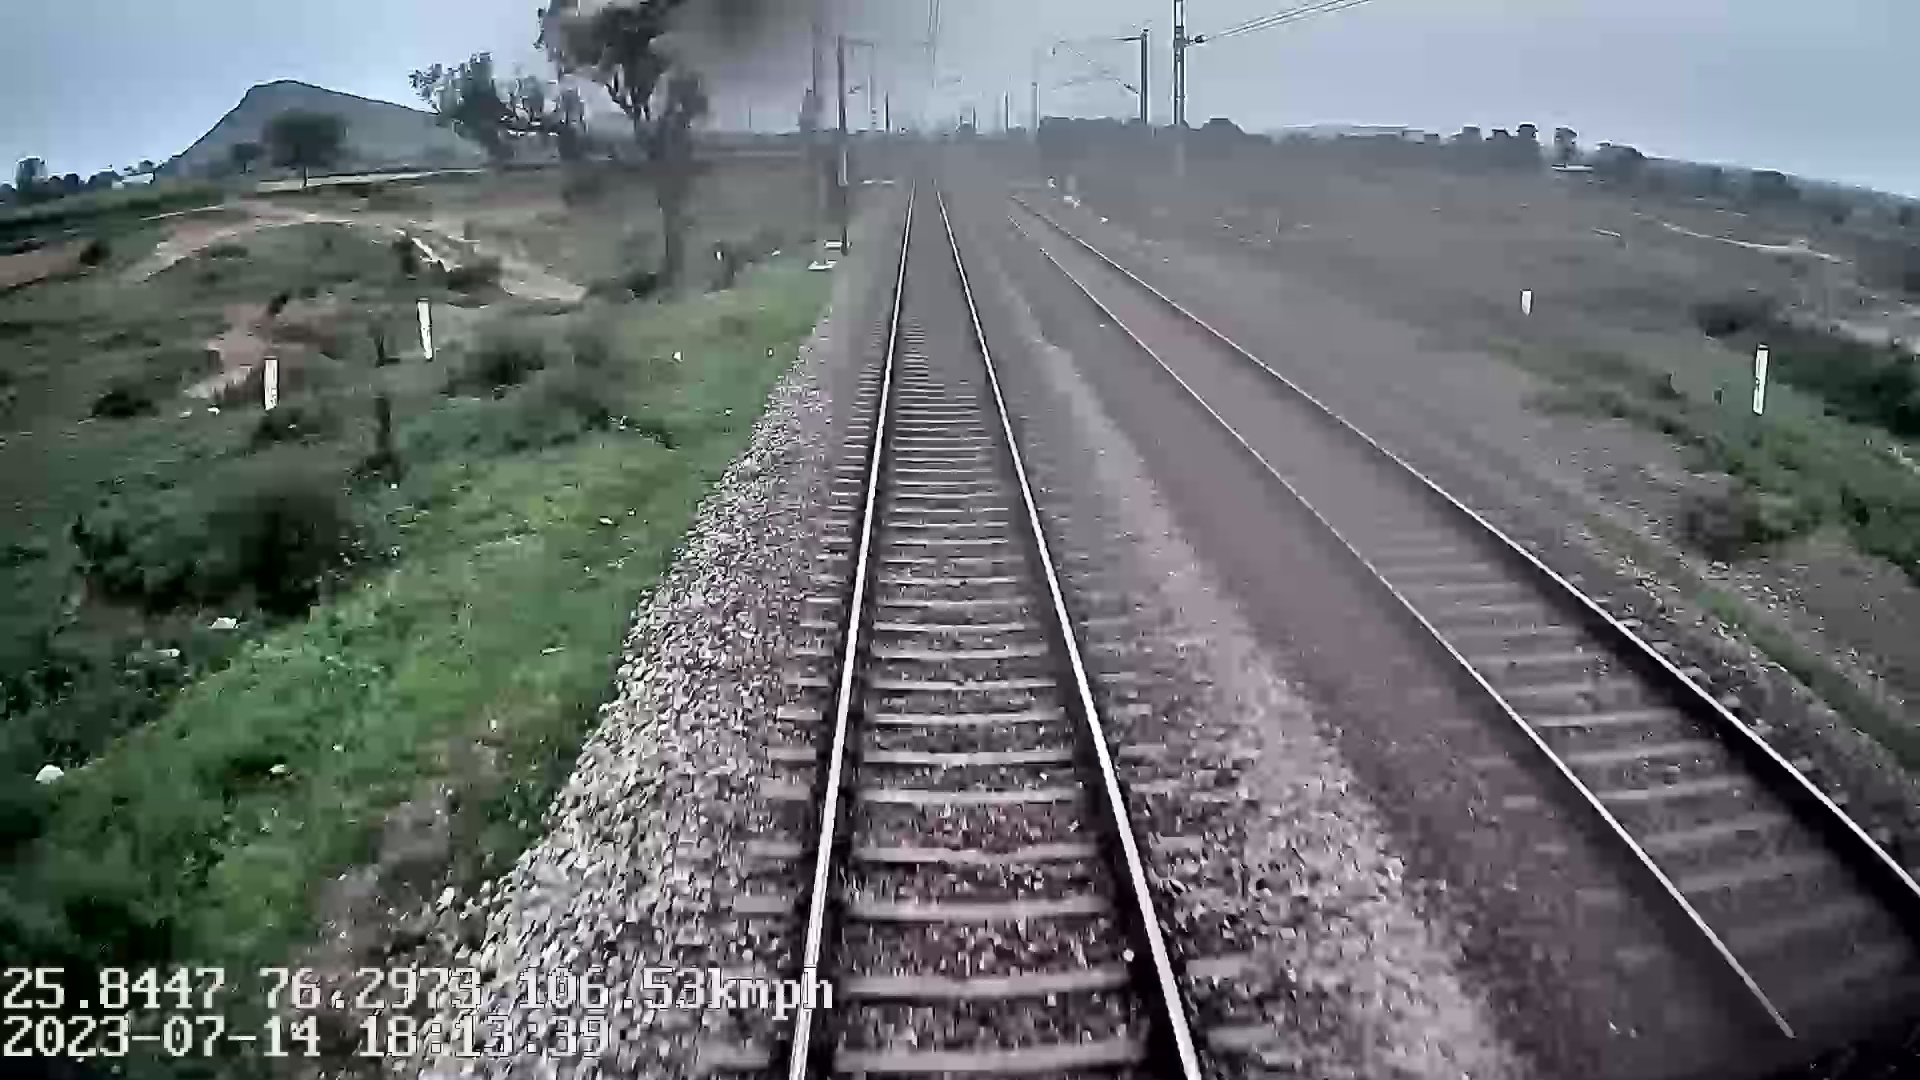track1: (795, 179, 1193, 1068)
track2: (998, 204, 1919, 1025)
